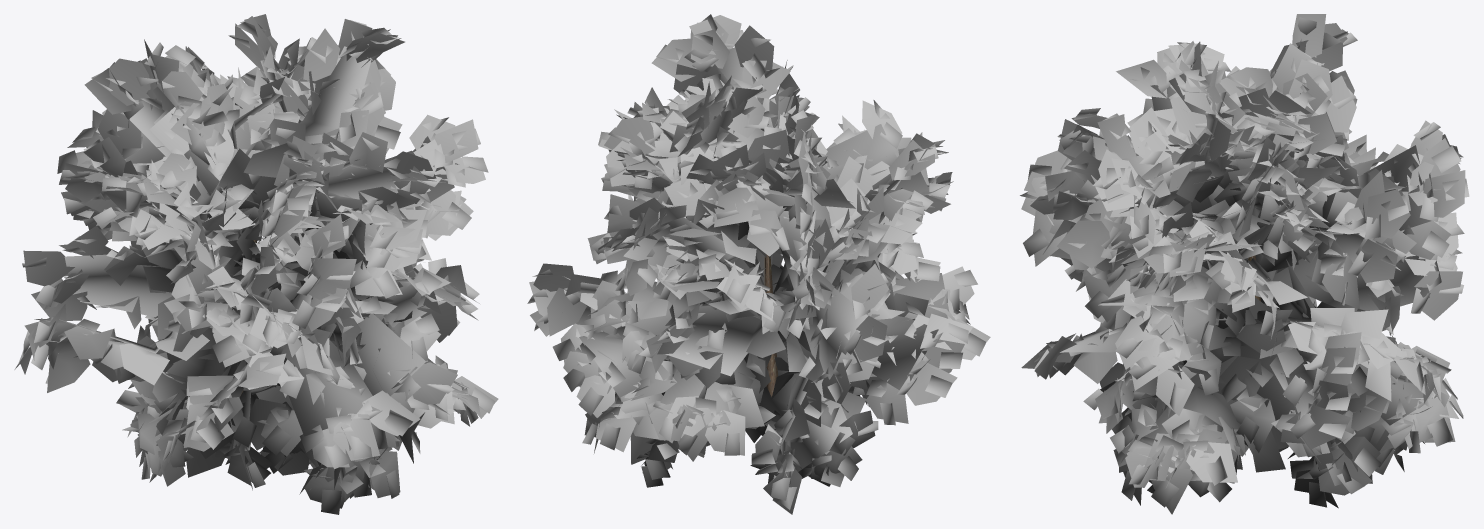
Rendered from Bush_Hero.FBX.
The picture shows the model from 3 angles, left to right: view 1: azimuth 30°, elevation 25°; view 2: azimuth 150°, elevation 25°; view 3: azimuth 270°, elevation 25°; orthographic projection. The views are drawn at different scales.
Visible parts, largest first — view 1: Bush_Hero_LOD0; view 2: Bush_Hero_LOD0; view 3: Bush_Hero_LOD0.
Part boxes in pixels (x1,y1,x2,y2): Bush_Hero_LOD0: (14, 14, 498, 514); Bush_Hero_LOD0: (527, 14, 990, 514); Bush_Hero_LOD0: (1020, 14, 1469, 514).
Size of what is drawn, in the model's own units: 180 by 164 by 181.
